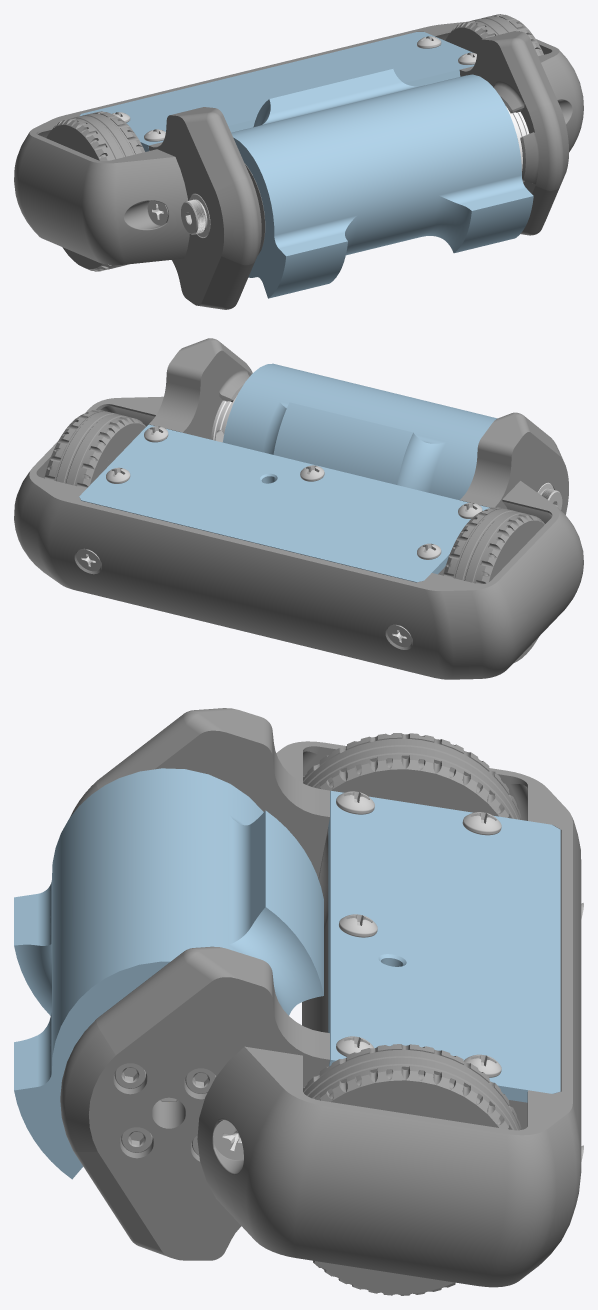
File: mini-boi.glb
3 views of the same model, one above another, from view 1: azimuth 30°, elevation 25°; view 2: azimuth 150°, elevation 25°; view 3: azimuth 270°, elevation 25° (orthographic). The views are drawn at different scales.
Visible parts, largest first — view 1: Main Hub.001; view 2: Main Hub.001; view 3: Main Hub.001.
Part boxes in pixels (bbox=[...]): Main Hub.001: bbox=[14, 14, 583, 309]; Main Hub.001: bbox=[14, 338, 583, 679]; Main Hub.001: bbox=[14, 708, 583, 1295].
Size of the model in its own units: 0.1605 by 0.0572 by 0.0998.
Materials: 1 (1 with a texture image).
